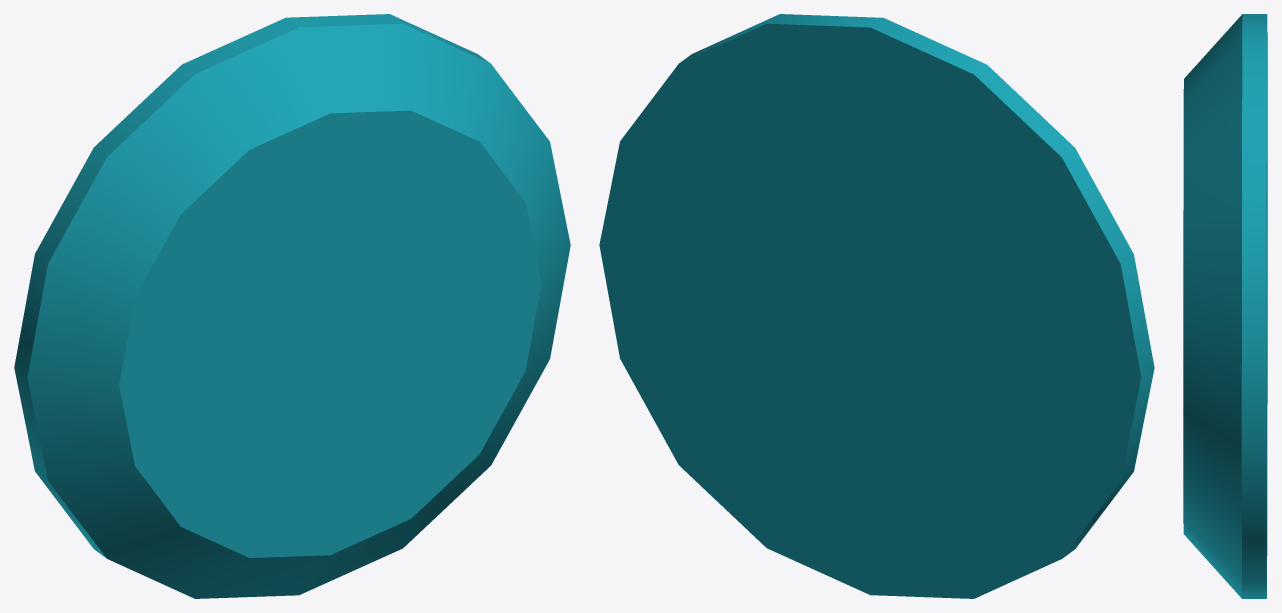
File: Flipper_Button_Base.fbx
3 views of the same model, side by side, from view 1: azimuth 30°, elevation 25°; view 2: azimuth 150°, elevation 25°; view 3: azimuth 270°, elevation 25° (orthographic). The views are drawn at different scales.
Visible parts, largest first — view 1: Flipper_Button_Base; view 2: Flipper_Button_Base; view 3: Flipper_Button_Base.
Boxes of the visible parts, box(x1,y1,x2,y2) form: Flipper_Button_Base: box(14, 14, 570, 598); Flipper_Button_Base: box(599, 14, 1154, 598); Flipper_Button_Base: box(1183, 14, 1267, 598).
Bounding box in the file's own units: 2.99 × 2.99 × 0.4304.
